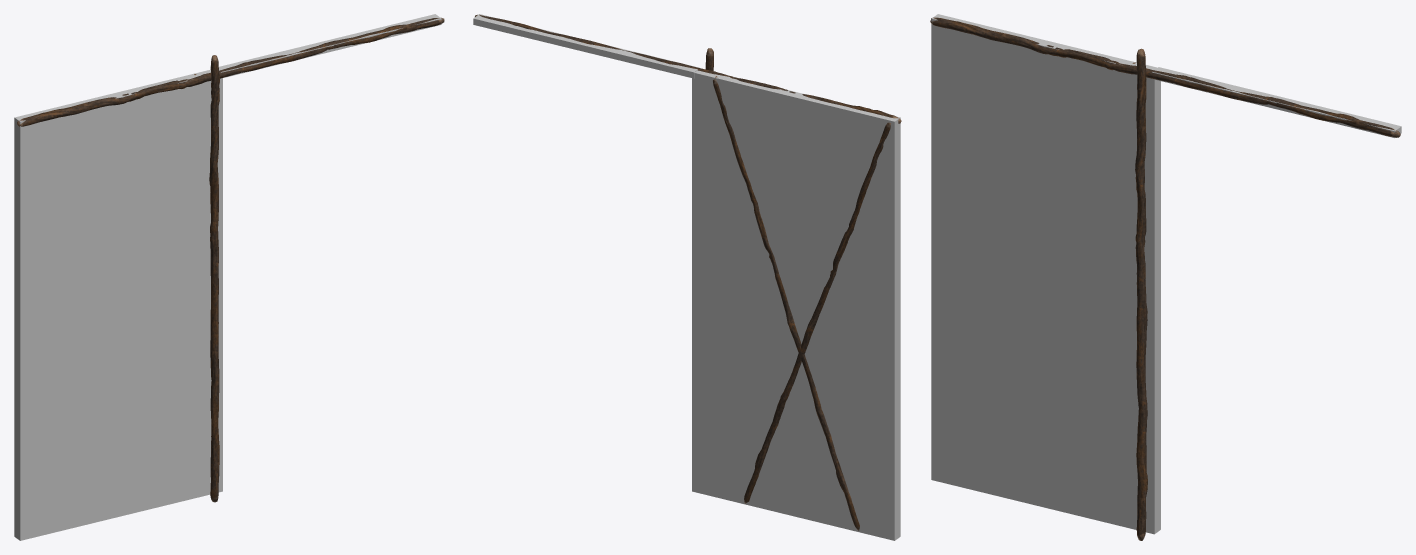
File: SM_wood_side_doorway_01.fbx
3 views of the same model, side by side, from view 1: azimuth 30°, elevation 25°; view 2: azimuth 150°, elevation 25°; view 3: azimuth 330°, elevation 25° (orthographic). The views are drawn at different scales.
Parts seen in each view (by area): view 1: SM_wood_side_doorway_01_ConvexHulls, SM_wood_side_doorway_01; view 2: SM_wood_side_doorway_01_ConvexHulls, SM_wood_side_doorway_01; view 3: SM_wood_side_doorway_01_ConvexHulls, SM_wood_side_doorway_01.
Part boxes in pixels (<box>): SM_wood_side_doorway_01_ConvexHulls: <box>14,14,441,540</box>; SM_wood_side_doorway_01: <box>17,17,444,502</box>; SM_wood_side_doorway_01_ConvexHulls: <box>473,14,900,540</box>; SM_wood_side_doorway_01: <box>475,14,901,530</box>; SM_wood_side_doorway_01_ConvexHulls: <box>931,14,1401,534</box>; SM_wood_side_doorway_01: <box>930,17,1400,540</box>.
Bounding box in the file's own units: 250 × 12 × 250.
Materials: 2 (1 with a texture image).
